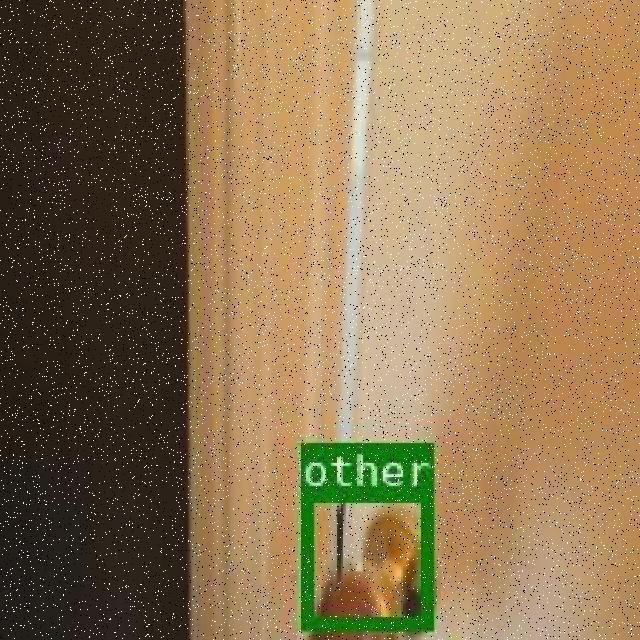Smoke: (299, 486, 432, 628)
